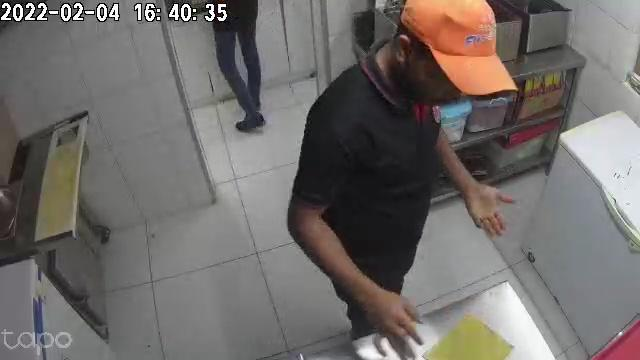no_gloves: (466, 181, 516, 236)
